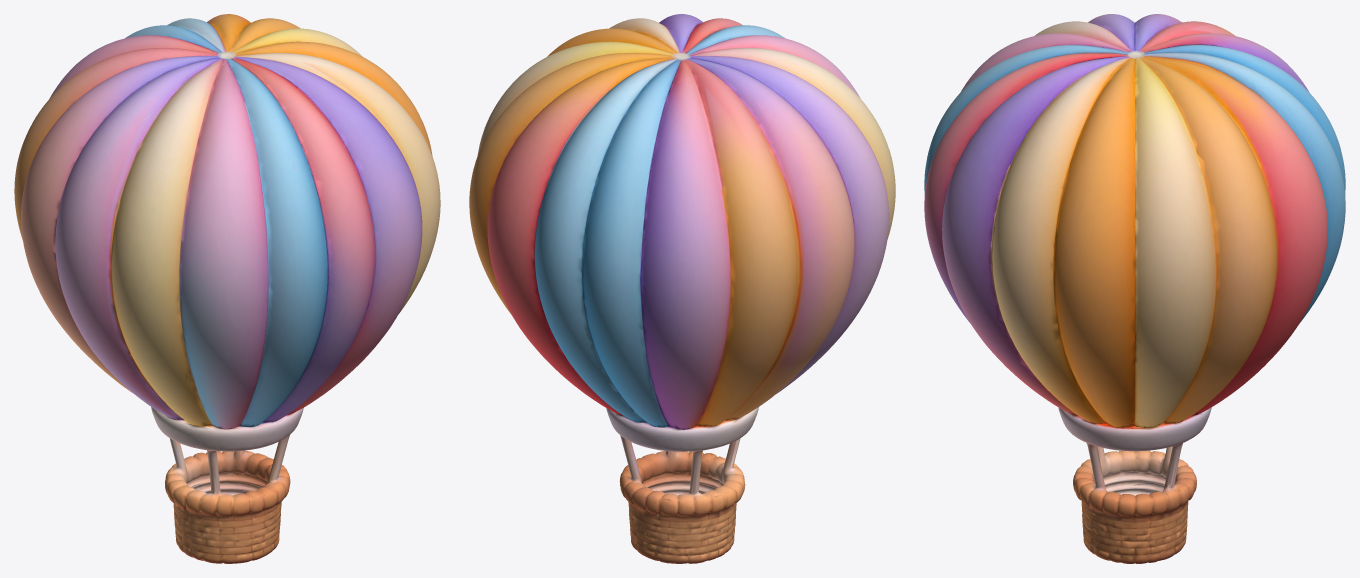
Rendered from ReQiQiu1.glb.
The picture shows the model from 3 angles, left to right: view 1: azimuth 30°, elevation 25°; view 2: azimuth 150°, elevation 25°; view 3: azimuth 270°, elevation 25°; orthographic projection.
Visible parts, largest first — view 1: node_0; view 2: node_0; view 3: node_0.
Boxes of the visible parts, left/top/right/bottom form: node_0: left=14, top=14, right=440, bottom=563; node_0: left=469, top=14, right=895, bottom=563; node_0: left=924, top=14, right=1345, bottom=563.
Size of the model in its own units: 0.885 by 1.15 by 0.8846.
1 material, 1 textured.
